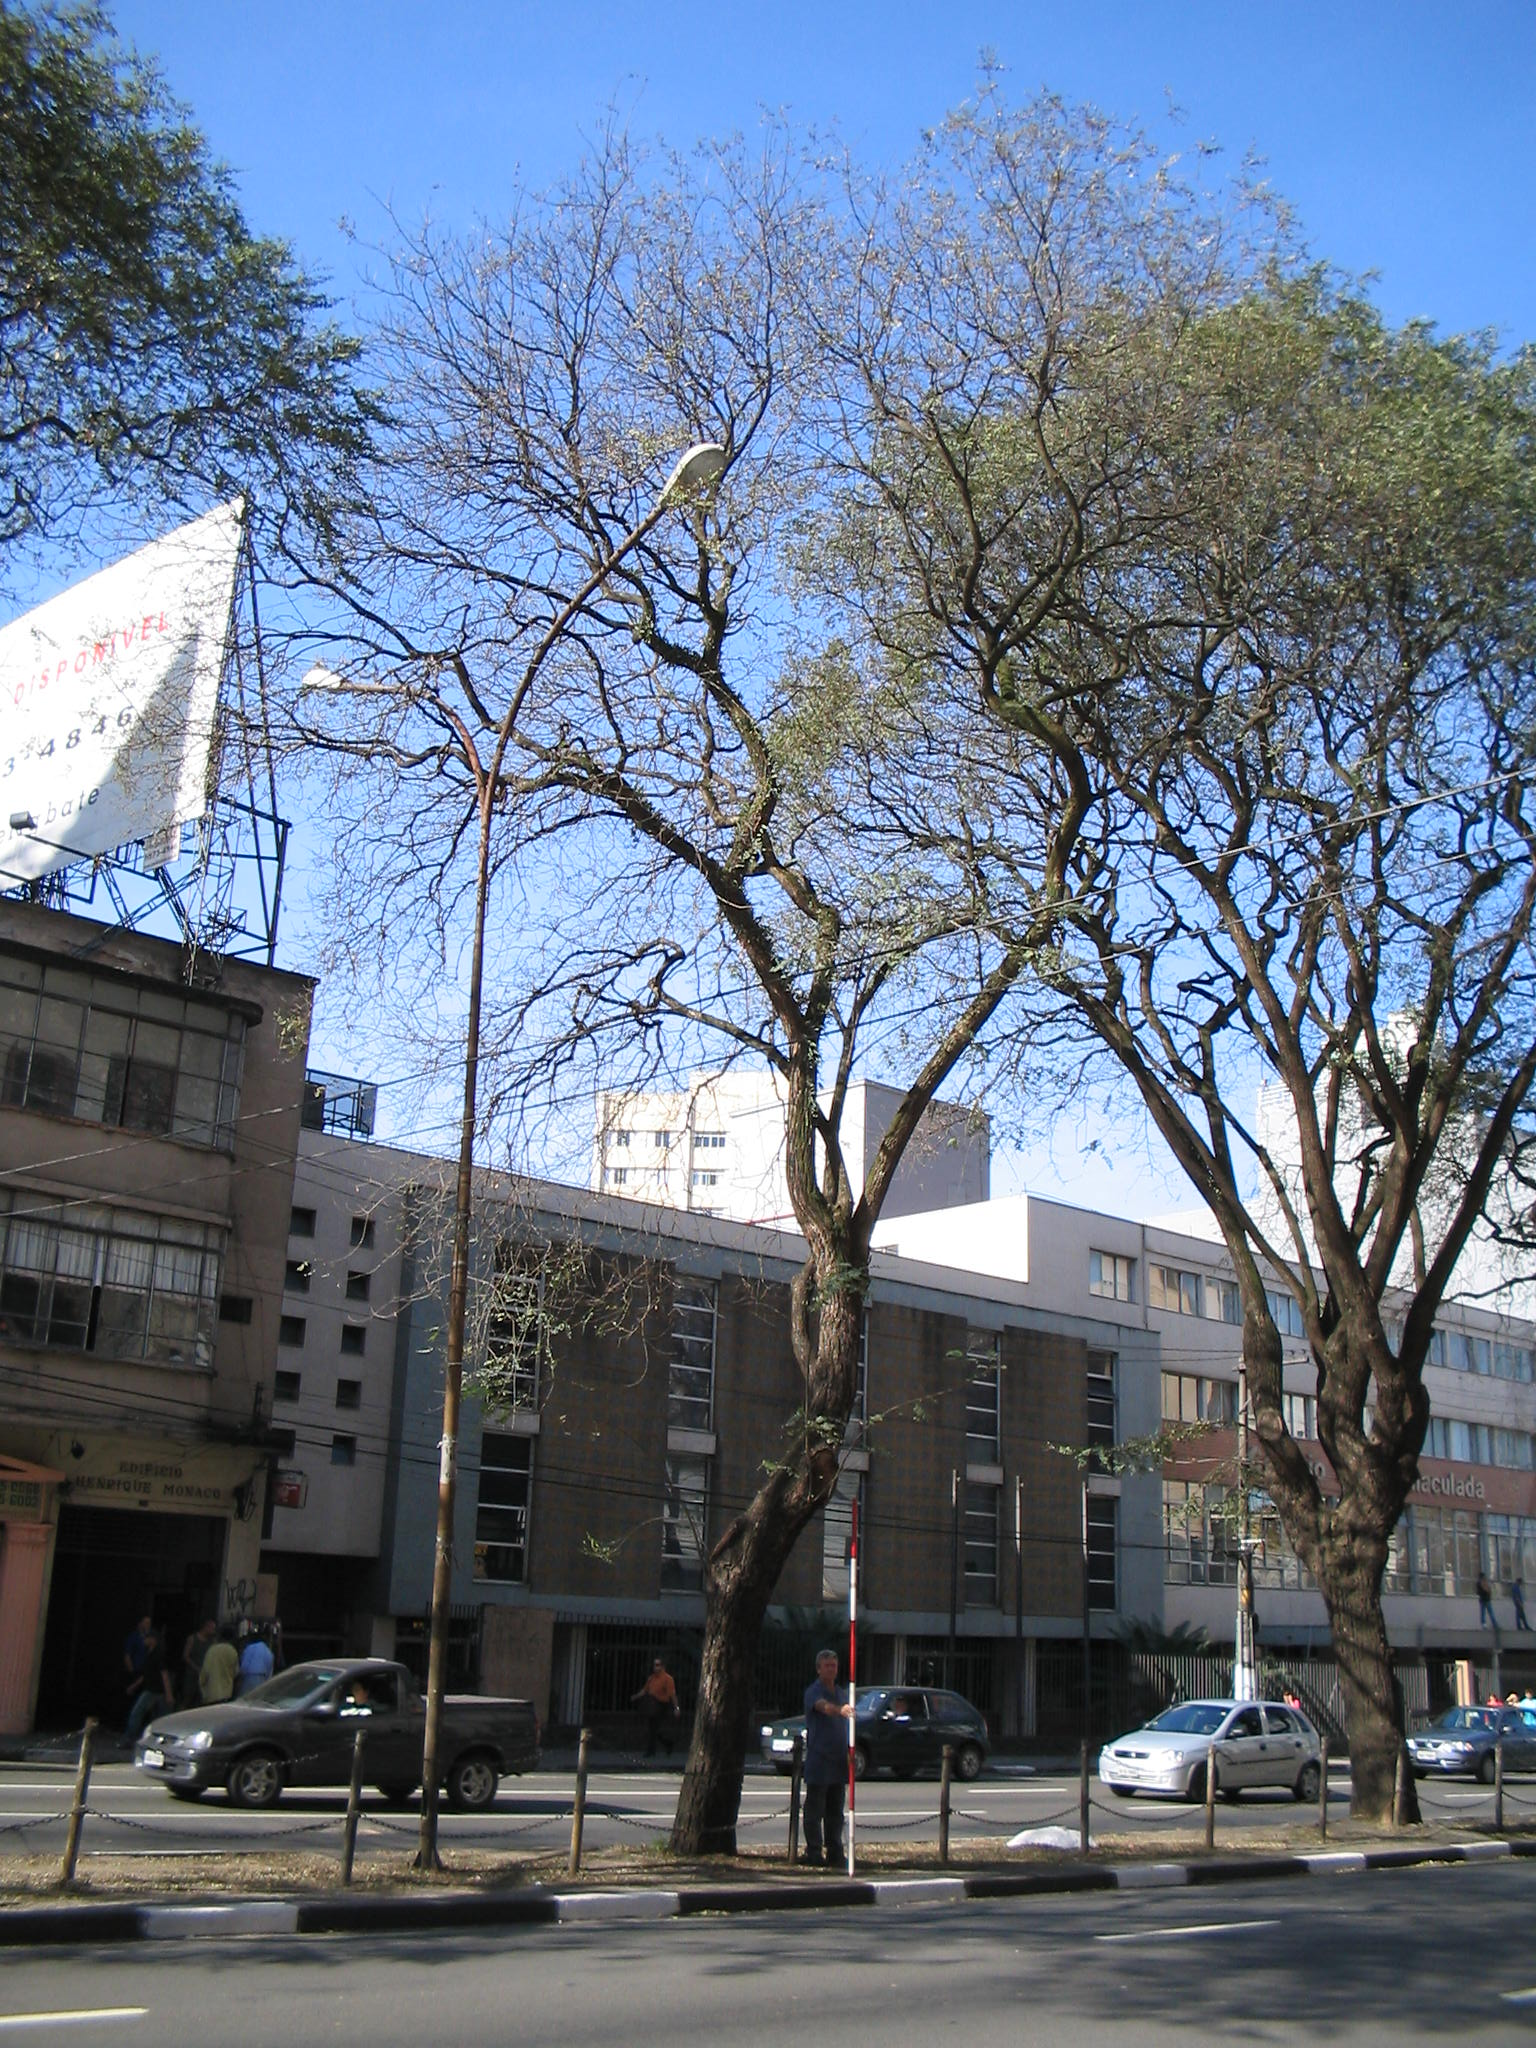crown: (150, 68, 1305, 1018), (883, 277, 1530, 1047)
stem: (663, 1268, 845, 1861), (1283, 1555, 1439, 1830)
stick: (836, 1490, 879, 1867)
tree: (145, 65, 1309, 1861), (874, 276, 1536, 1835)
